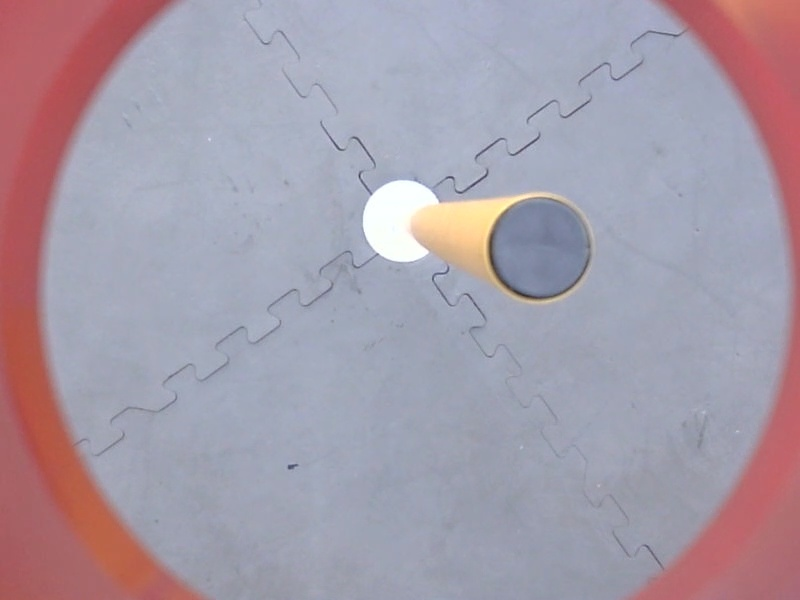tip: (481, 187, 600, 311)
